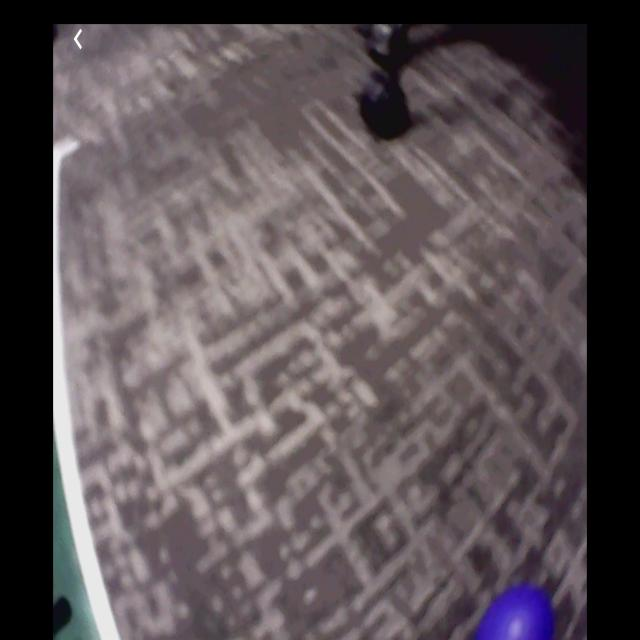ball: (475, 587, 555, 640)
